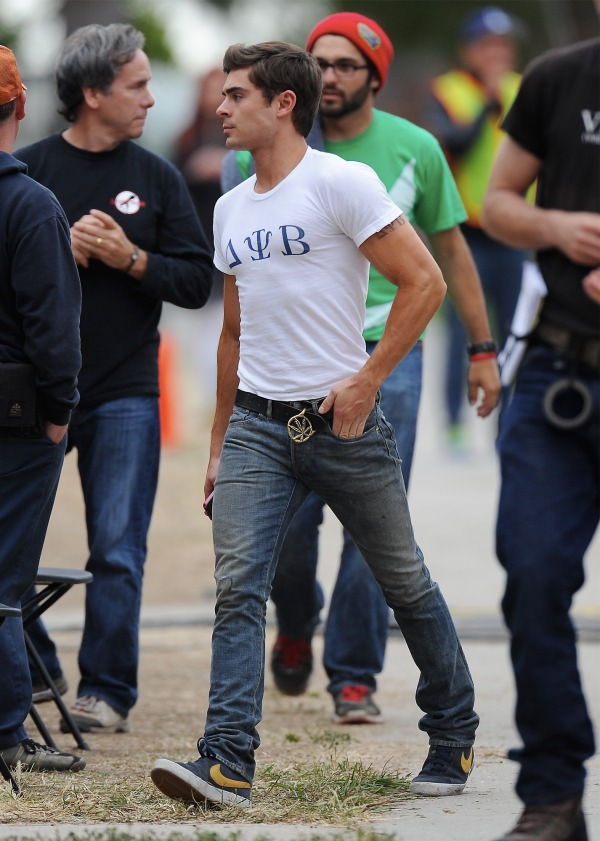Person: (146, 39, 483, 815), (16, 23, 214, 735)
